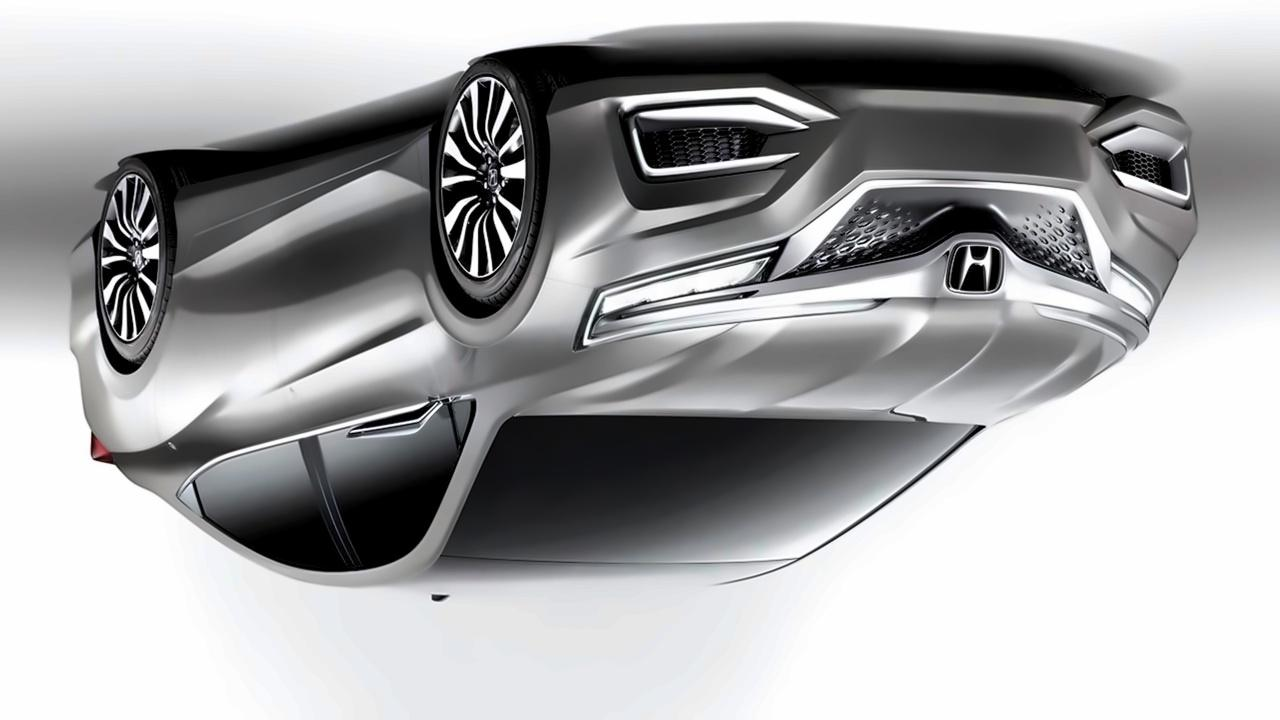Car hood: (514, 290, 1126, 431)
Fender - -F-L-: (412, 126, 592, 424)
Fender - -R-L-: (88, 188, 180, 448)
Front bumper: (528, 64, 1217, 273)
Headlight - -L-: (572, 226, 801, 359)
Headlight - -R-: (1092, 244, 1175, 344)
Passenger-s door - -F-L-: (304, 157, 466, 580)
Passenger-s door - -R-L-: (182, 196, 321, 582)
Rear bumper: (58, 212, 117, 371)
Rear light - -L-: (82, 422, 123, 480)
Side bumper - -L-: (166, 114, 441, 248)
Side mirror - -L-: (336, 386, 455, 457)
